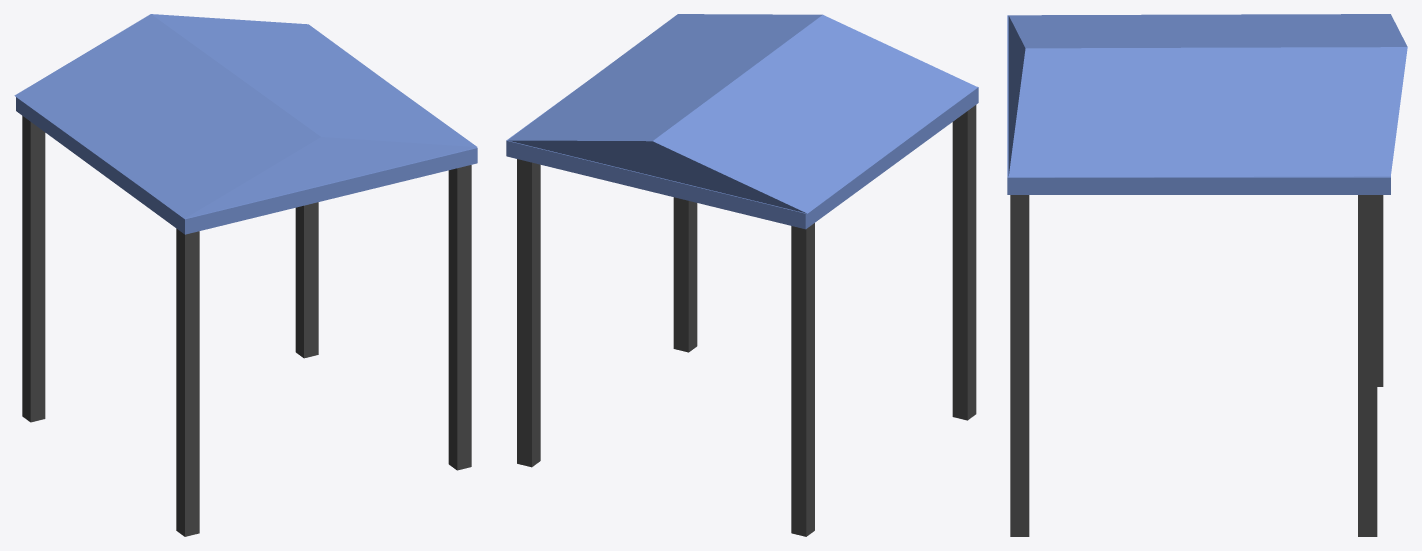
File: gazebo.fbx
3 views of the same model, side by side, from view 1: azimuth 30°, elevation 25°; view 2: azimuth 150°, elevation 25°; view 3: azimuth 270°, elevation 25° (orthographic). The views are drawn at different scales.
Parts seen in each view (by area): view 1: Cube, Cube.001, Cube.002, Cube.004, Cube.003; view 2: Cube, Cube.001, Cube.004, Cube.003, Cube.002; view 3: Cube, Cube.002, Cube.003, Cube.004.
Part boxes in pixels (x1,y1,x2,y2): Cube: (14,14,477,234); Cube.001: (176,228,199,536); Cube.002: (448,165,471,470); Cube.004: (22,116,45,422); Cube.003: (295,202,318,358); Cube: (506,14,978,229); Cube.001: (952,105,976,420); Cube.004: (791,223,814,536); Cube.003: (517,159,540,467); Cube.002: (673,197,697,352); Cube: (1007,14,1407,194); Cube.002: (1010,195,1029,536); Cube.003: (1358,195,1377,536); Cube.004: (1377,195,1383,386).
Size of the model in its own units: 403 by 471 by 418.
